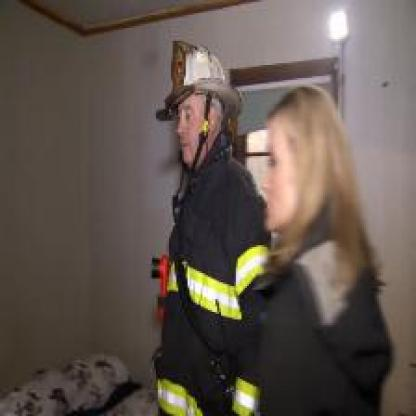other: (183, 264, 239, 318), (156, 254, 170, 315), (235, 253, 260, 280)
